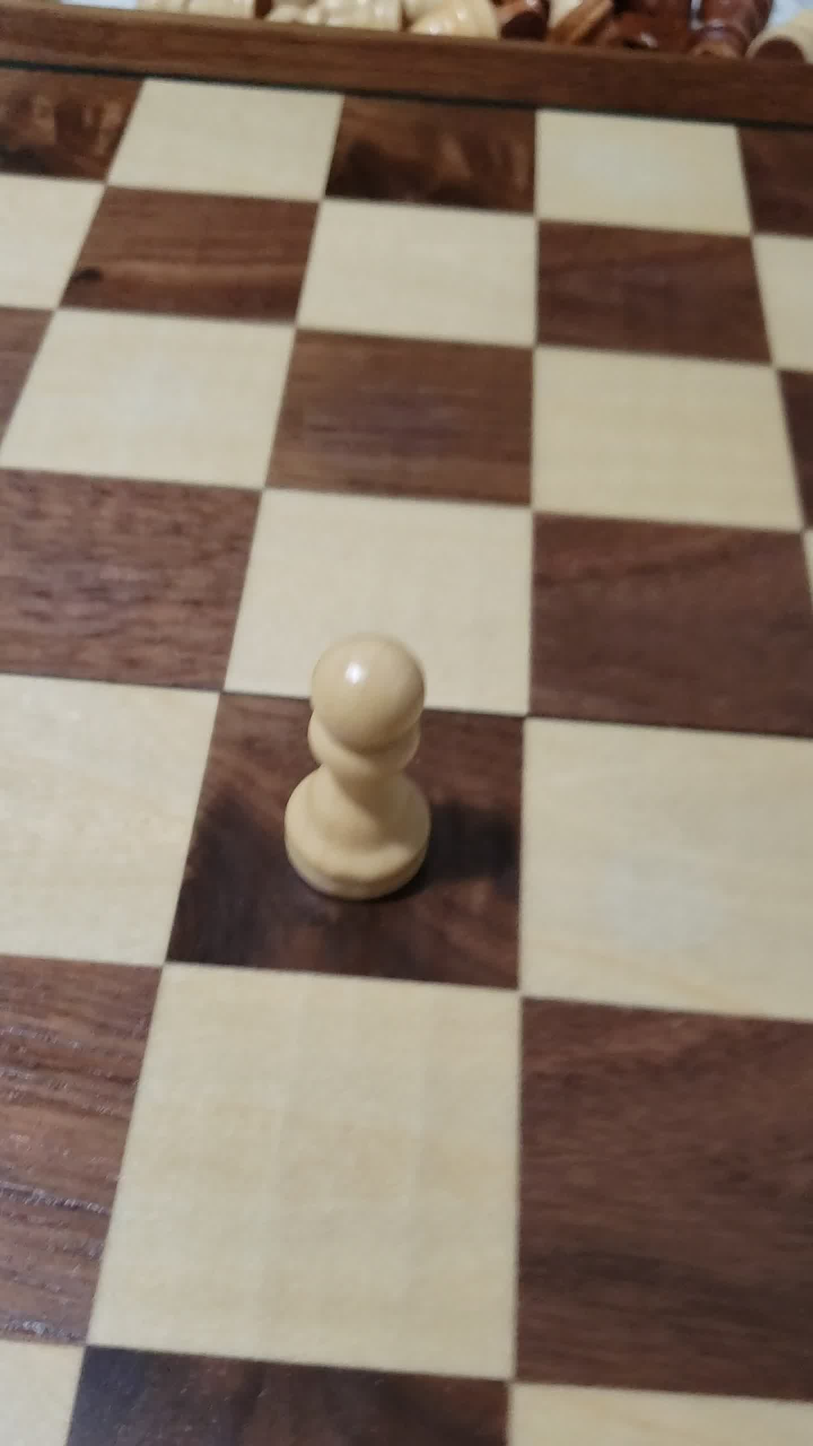white-pawn: (265, 616, 460, 910)
